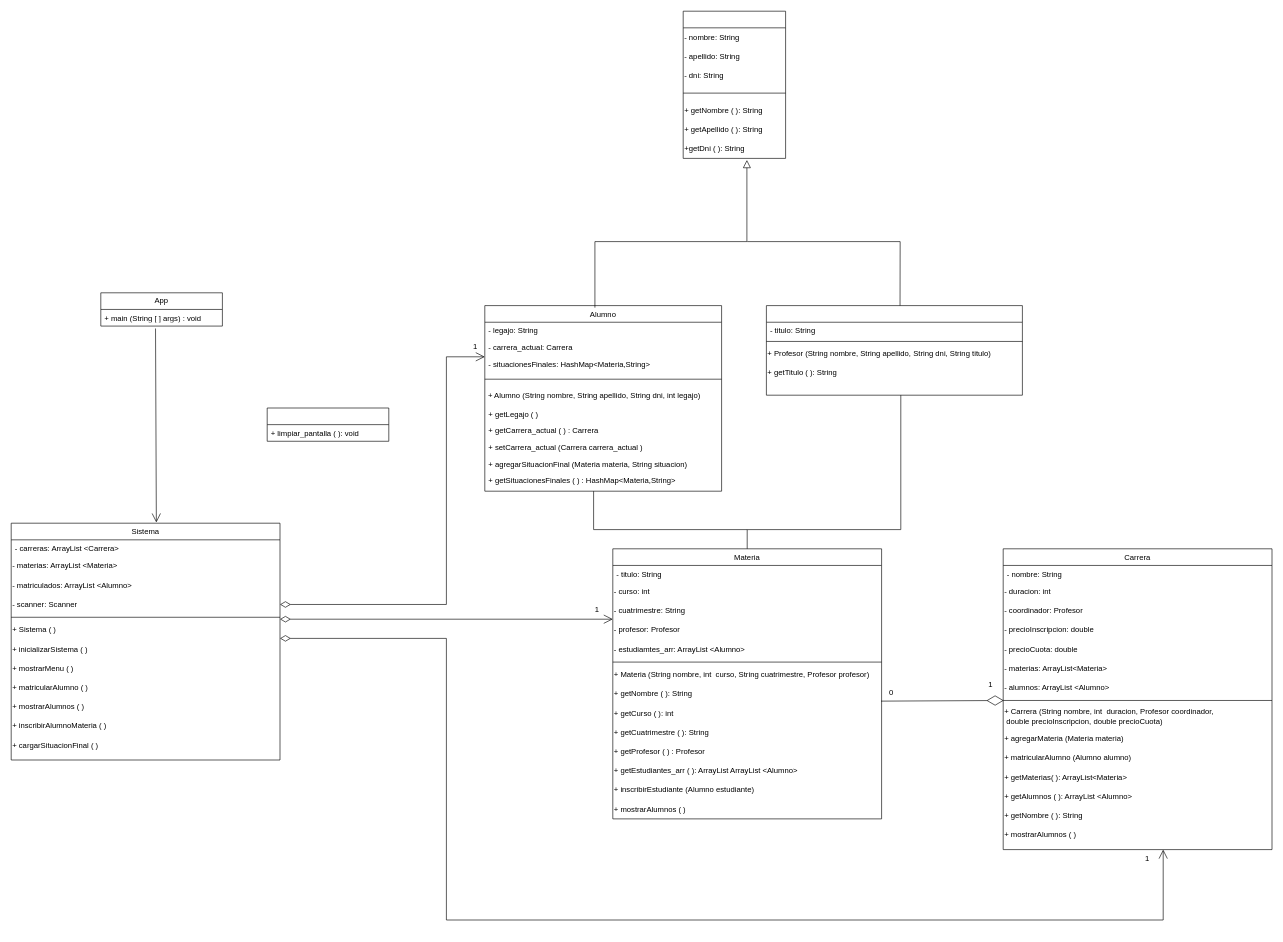
Some shapes in this 1283 by 942 pixel diagram are drawn without their labels. Here are the shapes that lost their labels. From the top down, the box of each, then its label:
(683, 11, 786, 158): Persona (abstracta)
(766, 305, 1022, 395): Professor
(267, 407, 389, 441): Utilidades
